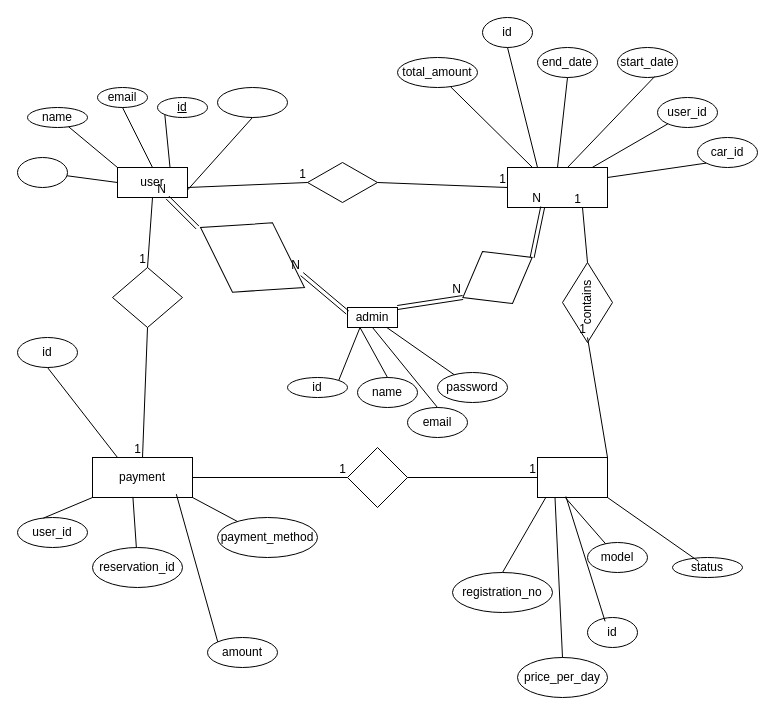
Image size: 775x715. Some labels were removed from this diagram. The box of each missing label's shape, as (x1, y1, x2, y2) in pixels:
admin_maintainence: (179, 192, 325, 322)
booking: (306, 162, 378, 202)
car: (536, 456, 608, 498)
contact: (16, 156, 68, 188)
involves: (346, 446, 408, 508)
license_no: (216, 86, 288, 118)
manage: (447, 230, 547, 324)
pays: (112, 266, 182, 328)
Reservation: (506, 166, 608, 208)
